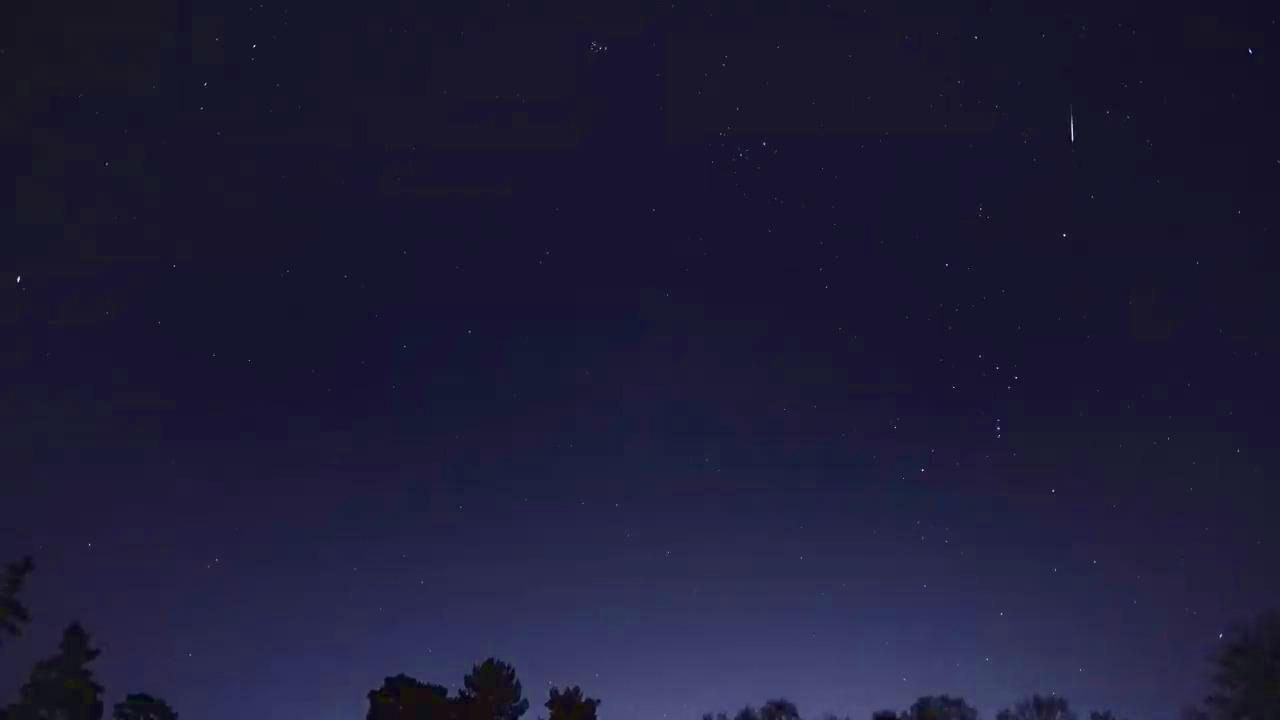meteorite: (1021, 103, 1118, 146)
